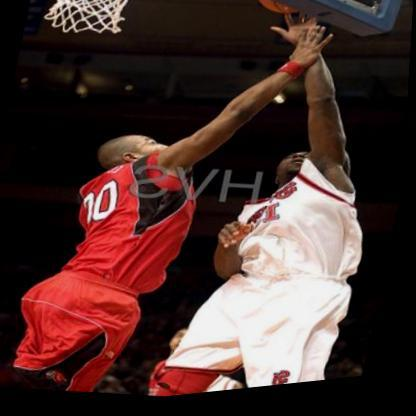basketball: (254, 0, 307, 25)
